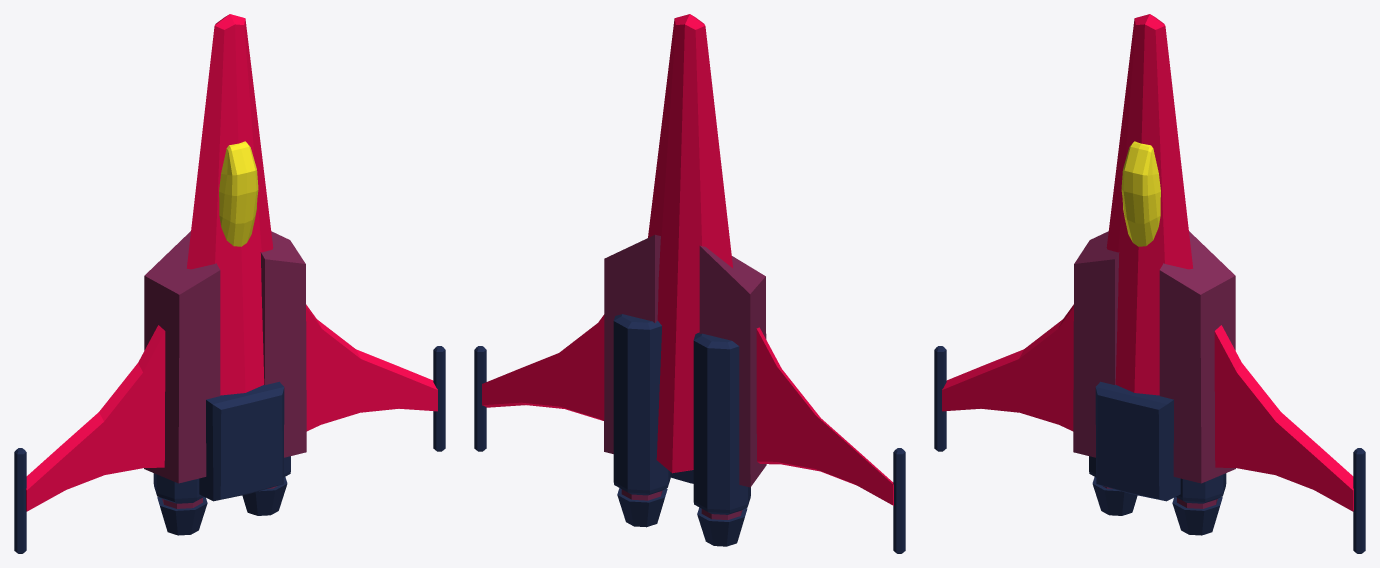
The model's file is Spaceship.fbx.
3 views of the same model, side by side, from view 1: azimuth 30°, elevation 25°; view 2: azimuth 150°, elevation 25°; view 3: azimuth 330°, elevation 25° (orthographic).
Parts seen in each view (by area): view 1: SideSupports, Wings, Chassi, MainSupport, JetEngines, Cockpit, WingTips; view 2: Chassi, JetEngines, Wings, SideSupports, WingTips; view 3: SideSupports, Wings, Chassi, MainSupport, JetEngines, Cockpit, WingTips.
Part boxes in pixels (box(x1,y1,x2,y2)): SideSupports: box(144, 231, 306, 483); Wings: box(26, 304, 437, 511); Chassi: box(186, 14, 273, 395); MainSupport: box(199, 381, 284, 501); JetEngines: box(153, 456, 290, 535); Cockpit: box(219, 141, 258, 246); WingTips: box(14, 346, 445, 553); Chassi: box(648, 14, 733, 473); JetEngines: box(613, 314, 750, 546); Wings: box(482, 314, 893, 505); SideSupports: box(604, 234, 766, 487); WingTips: box(474, 346, 905, 553); SideSupports: box(1073, 231, 1235, 483); Wings: box(942, 304, 1353, 511); Chassi: box(1106, 14, 1193, 395); MainSupport: box(1095, 381, 1180, 501); JetEngines: box(1089, 456, 1226, 535); Cockpit: box(1121, 141, 1160, 246); WingTips: box(934, 346, 1365, 553).
Bounding box in the file's own units: 288 × 328 × 51.66.
